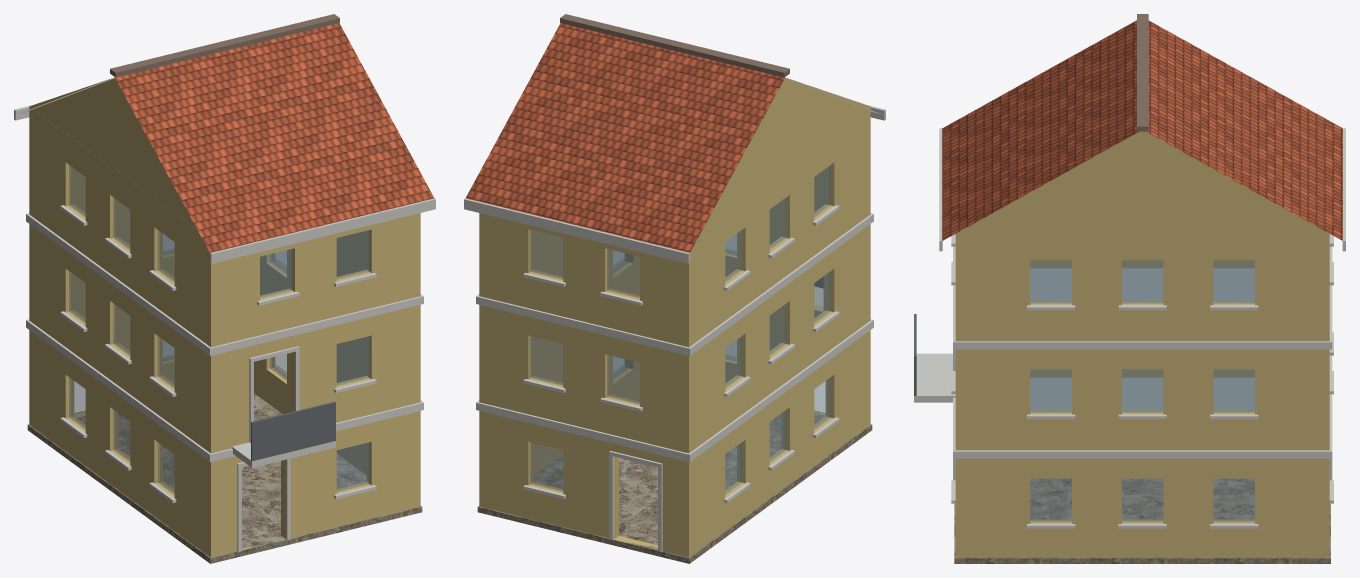
File: cove-house-yellow.coast-v2.lod1.glb
The picture shows the model from 3 angles, left to right: view 1: azimuth 30°, elevation 25°; view 2: azimuth 150°, elevation 25°; view 3: azimuth 270°, elevation 25°; orthographic projection. The views are drawn at different scales.
Parts seen in each view (by area): view 1: cove-house-yellow; view 2: cove-house-yellow; view 3: cove-house-yellow.
Part boxes in pixels (x1=…): cove-house-yellow: x1=14, y1=14, x2=435, y2=563; cove-house-yellow: x1=464, y1=14, x2=885, y2=563; cove-house-yellow: x1=914, y1=14, x2=1345, y2=563.
Size of the model in its own units: 6.42 by 11.69 by 10.39.
4 materials, 2 textured.
